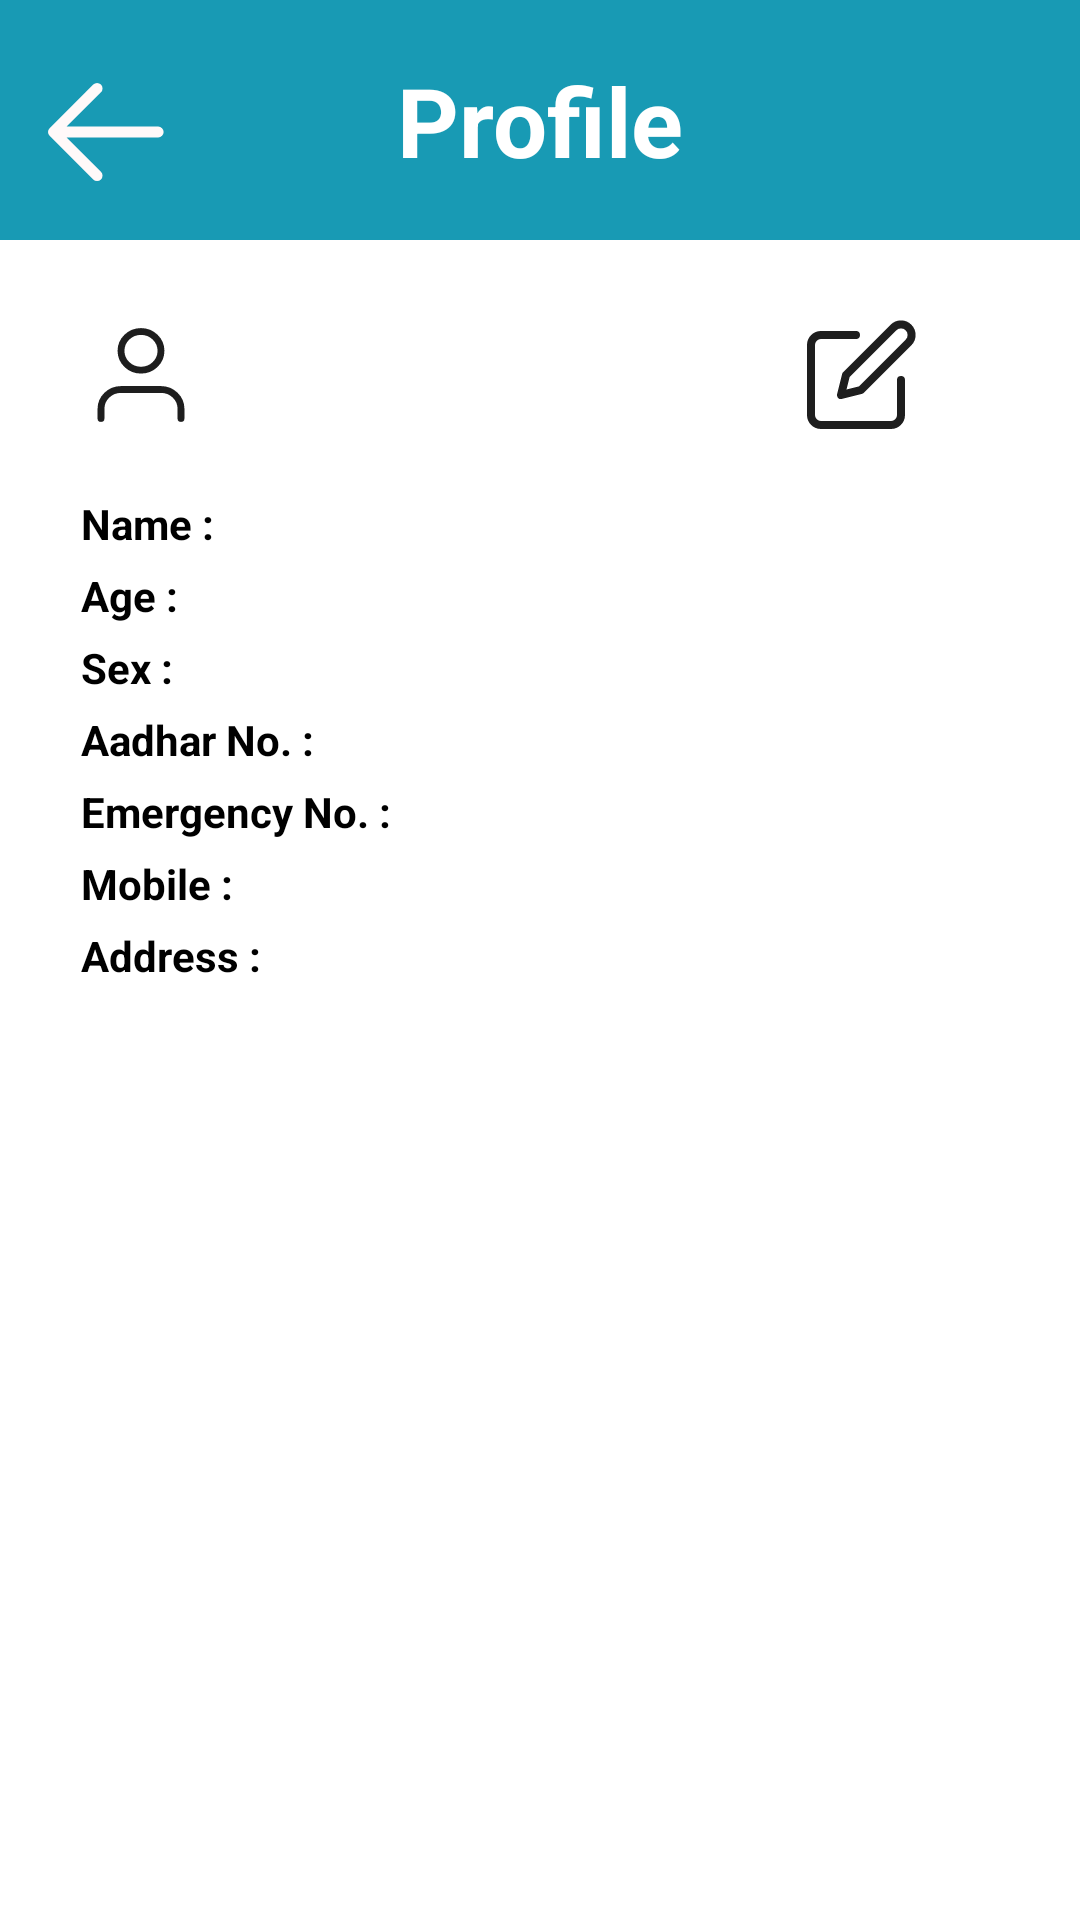

Named icons in this screenshot (1080×1920) and their centers, (x,y):
arrow: (106,132)
edit: (861,374)
